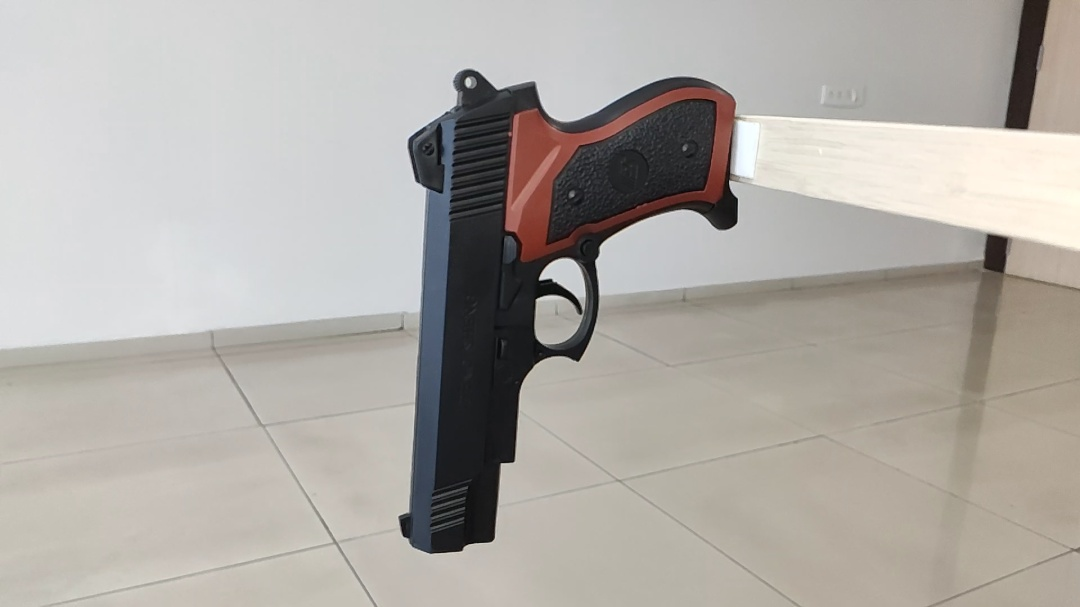gun: (394, 65, 740, 561)
